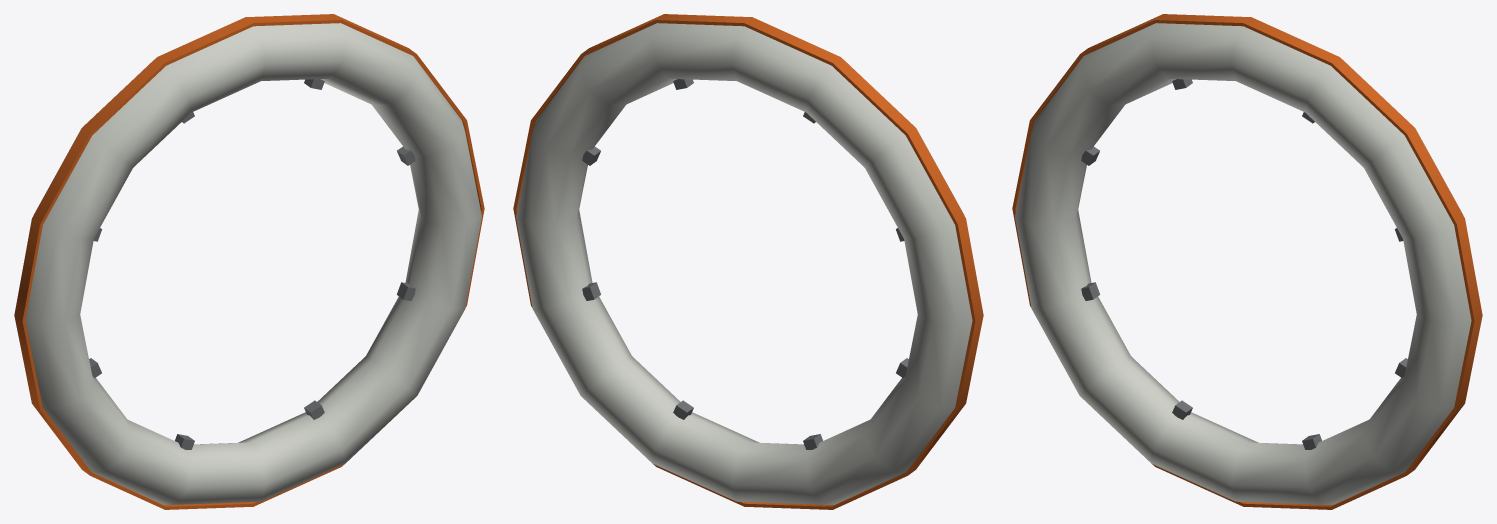
3 renders of one model, left to right at view 1: azimuth 30°, elevation 25°; view 2: azimuth 150°, elevation 25°; view 3: azimuth 330°, elevation 25°, orthographic.
Parts seen in each view (by area): view 1: u70_hx; view 2: u70_hx; view 3: u70_hx.
Boxes of the visible parts, x1,y1,x2,y2 form: u70_hx: [14, 14, 484, 509]; u70_hx: [513, 14, 983, 509]; u70_hx: [1012, 14, 1482, 509].
Bounding box in the file's own units: 3.91 × 3.91 × 0.48.
